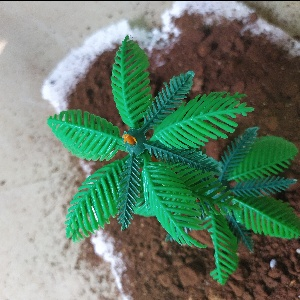plant: (64, 61, 287, 270)
